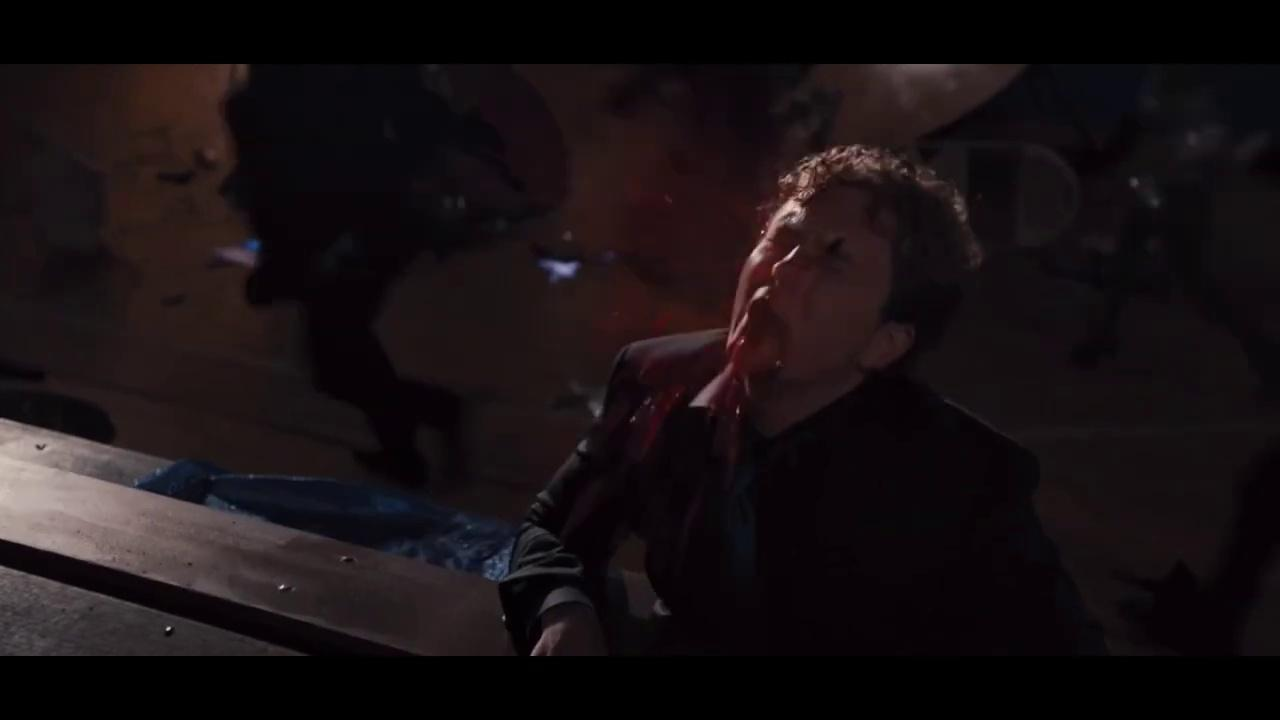Fire: (592, 170, 810, 487), (824, 237, 850, 261)
